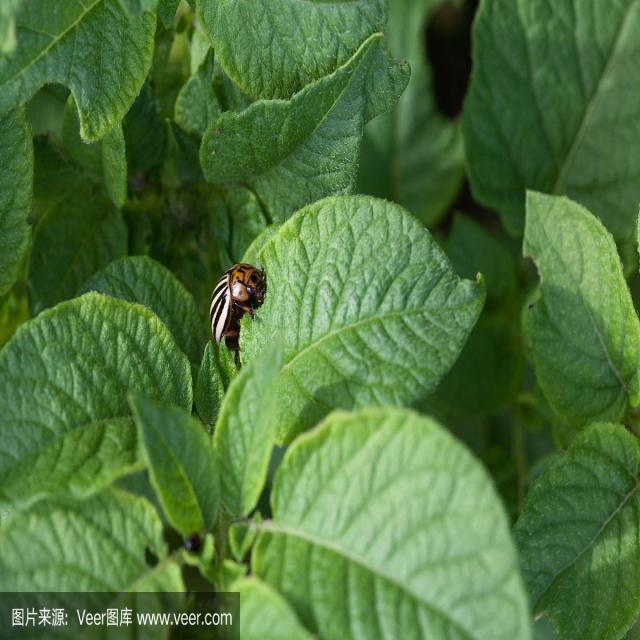ShuCaiHuaBanChong-Grown-: (191, 250, 269, 364)
